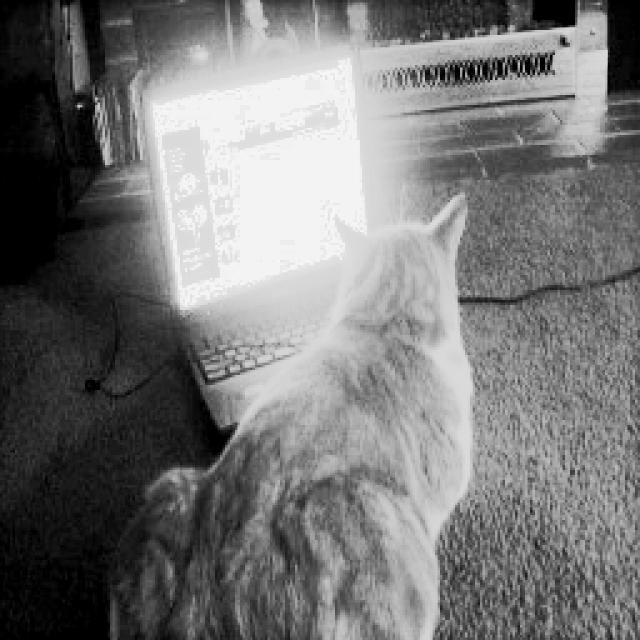cat: (80, 179, 513, 640)
